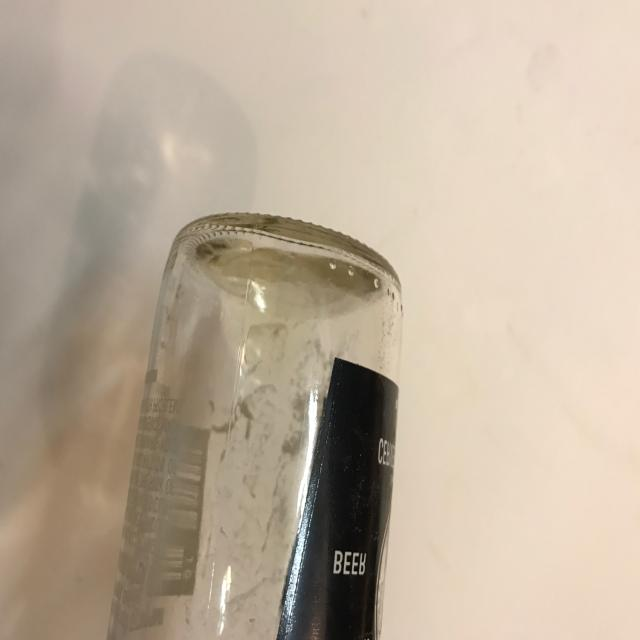glass: (105, 210, 404, 640)
